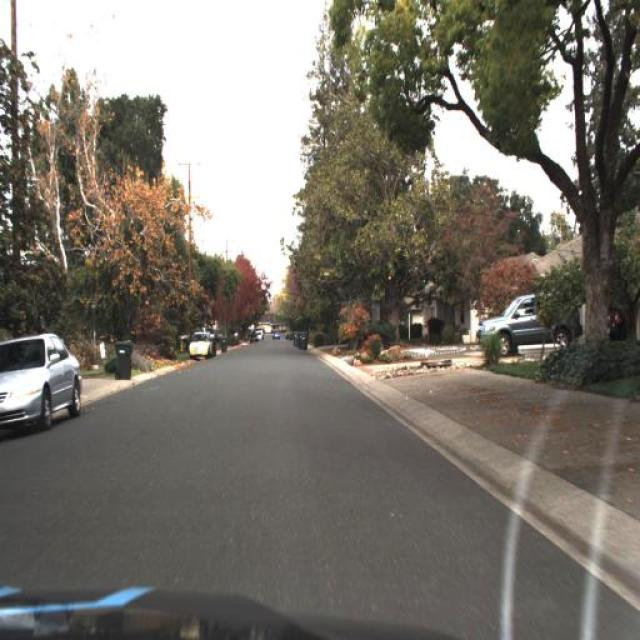car: (0, 334, 82, 440), (470, 284, 584, 358), (187, 327, 213, 361)
